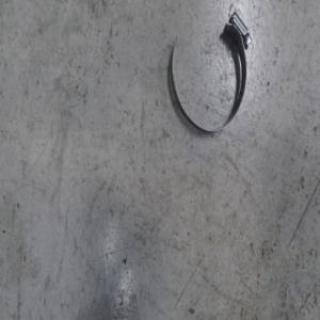AdjustableClamptrack_idkeyframe: (168, 7, 252, 136)
